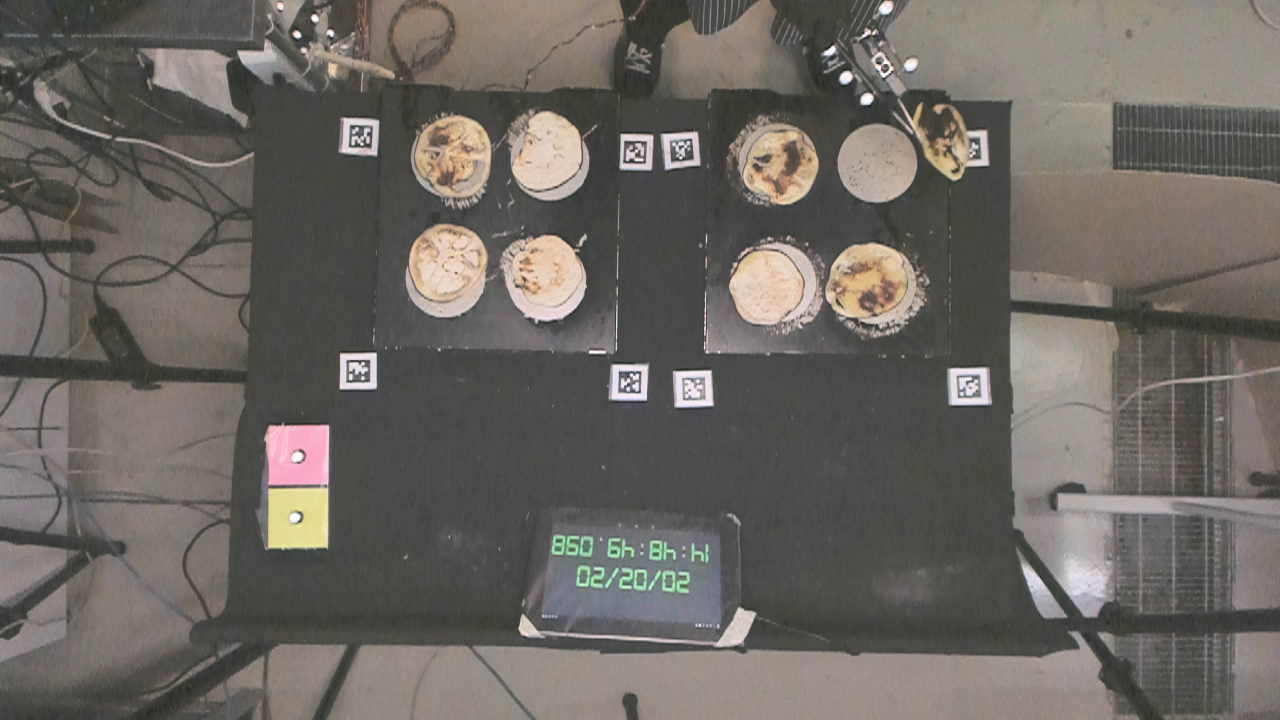eggplant: (725, 249, 805, 329), (413, 117, 491, 198), (409, 223, 485, 305), (827, 242, 908, 317), (742, 127, 817, 205), (508, 235, 585, 309), (512, 111, 582, 191), (913, 98, 968, 180)
marker: (269, 426, 330, 483)
